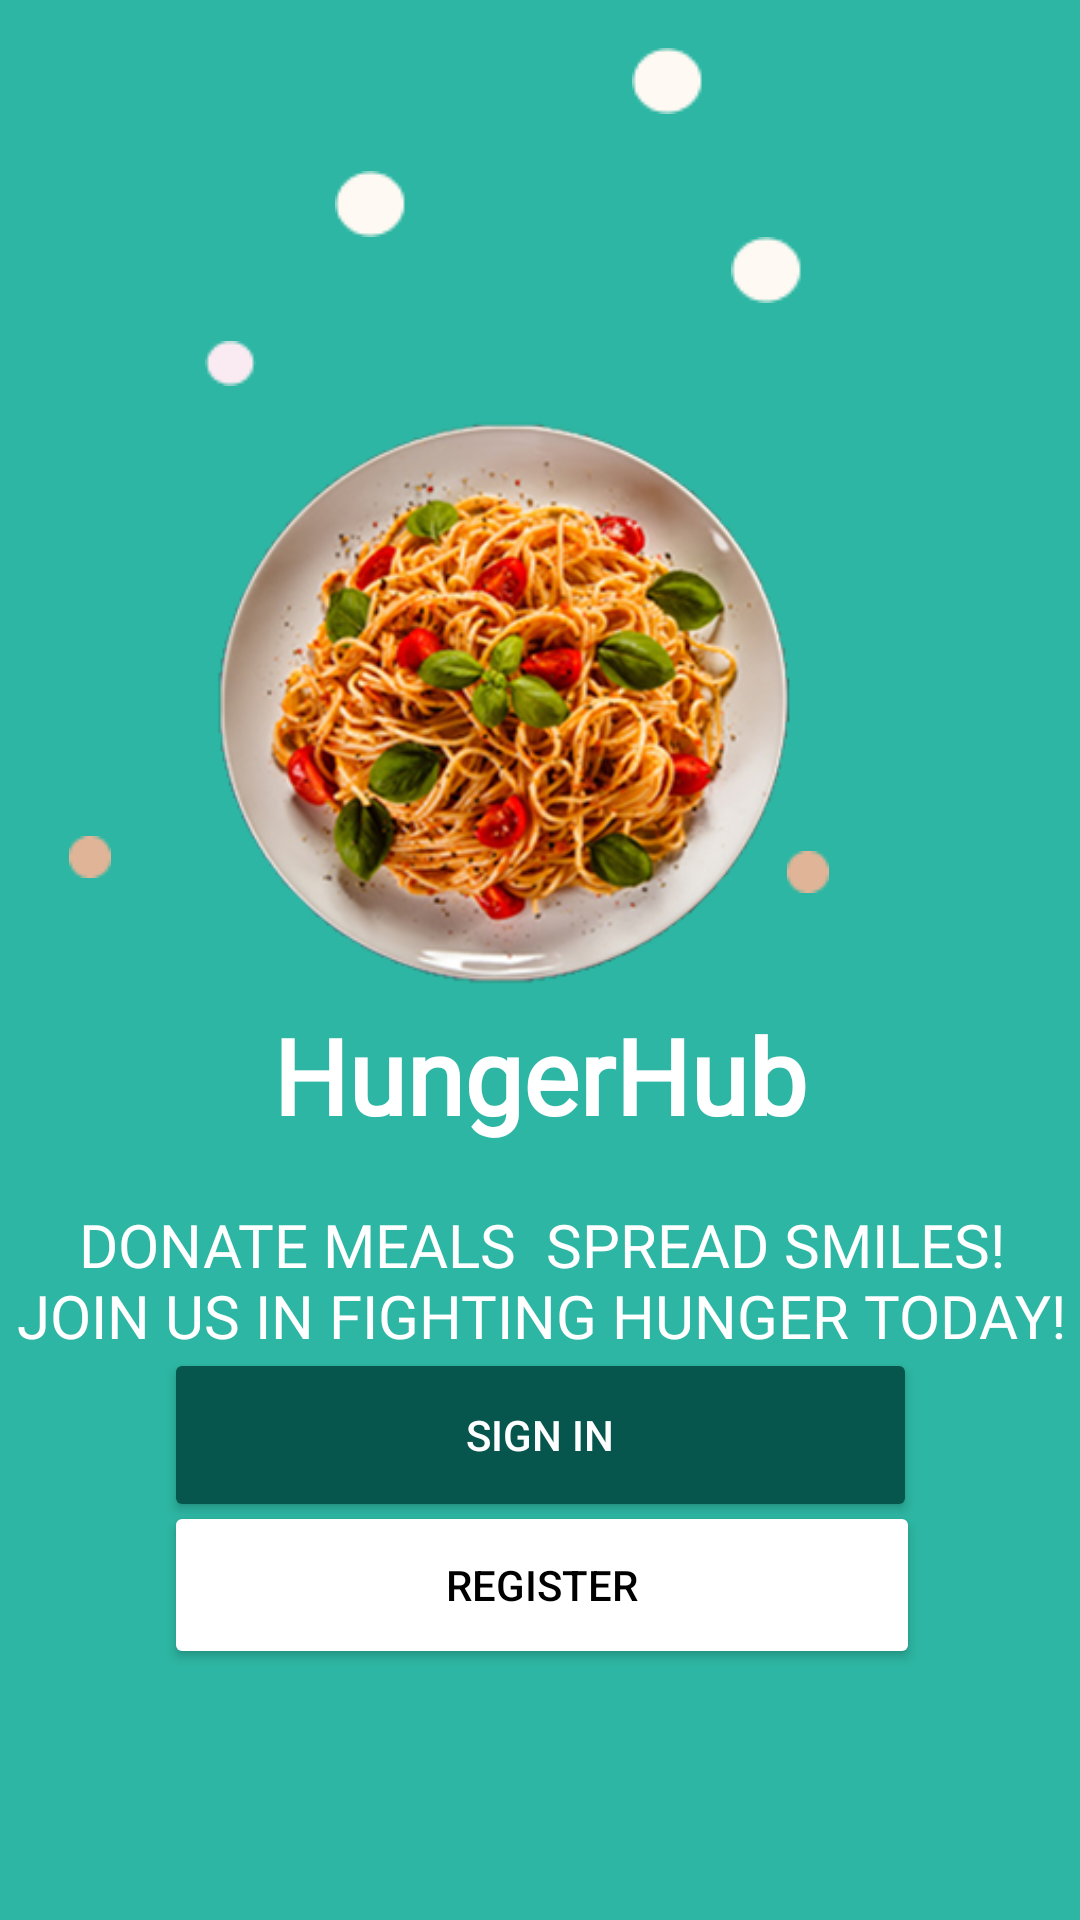

Icons on this 1080w x 1920h Android screen, each with its box as (x1, y1, x2, y2):
dot: (632, 48, 702, 114), (335, 171, 405, 237), (731, 237, 801, 303), (205, 341, 256, 386), (69, 836, 111, 878), (787, 851, 829, 893)
